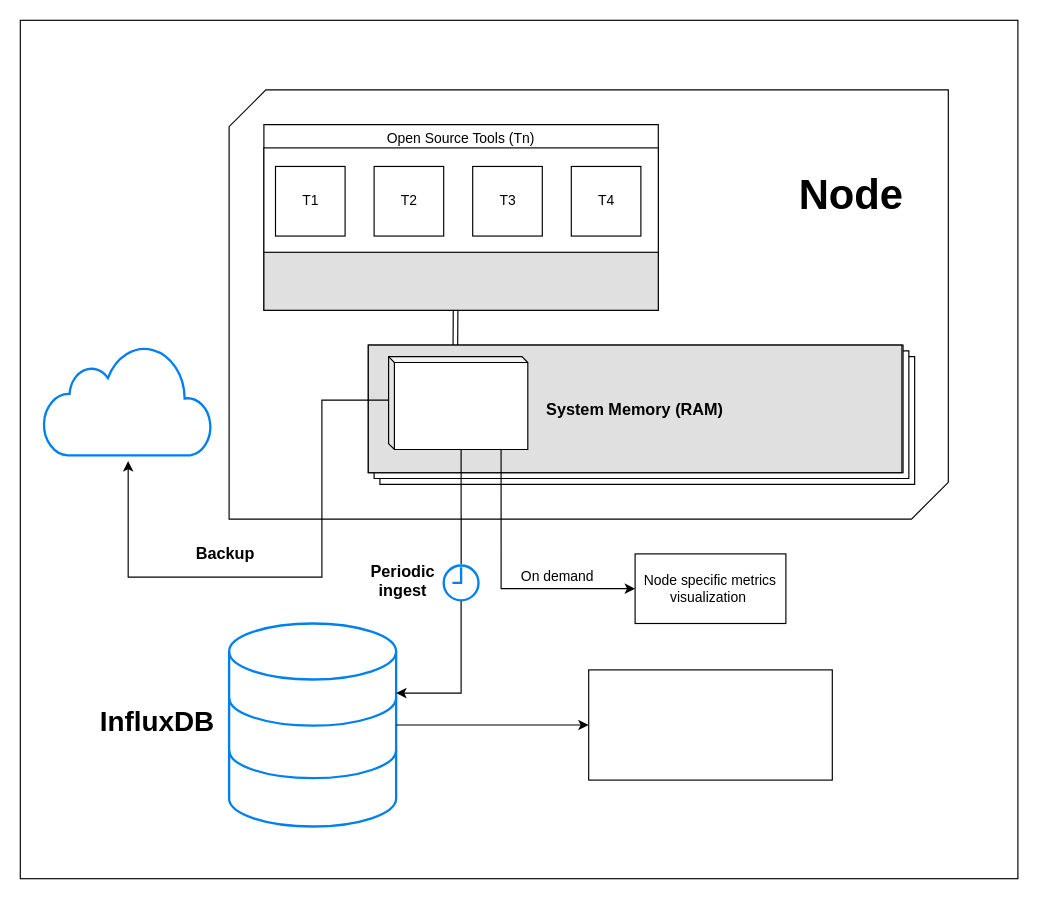
Image size: 1038x899. Some labels were removed from this diagram. The shapes that lost their labels are listed below. From the top down, each one's centre as x and y in pixels, then its label:
At (x=460, y=280): "Metrics Collector".
At (x=457, y=402): "Local Cache".
At (x=710, y=724): "Grafana".
